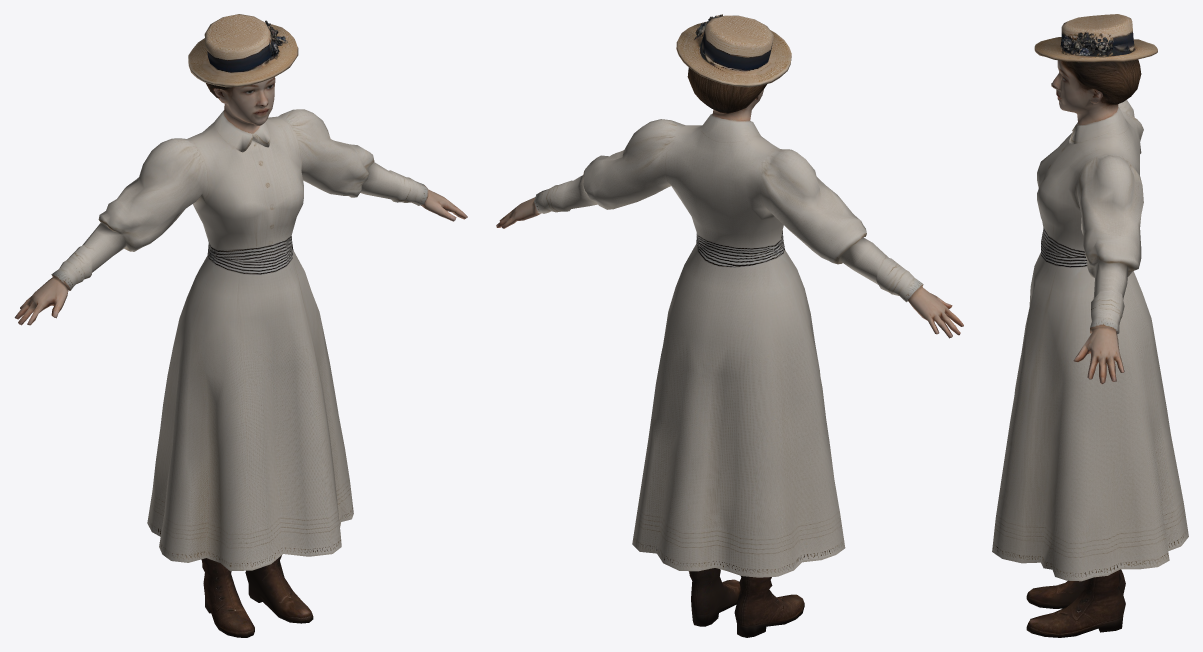
The model's file is woman dress new.fbx.
3 renders of one model, left to right at view 1: azimuth 30°, elevation 25°; view 2: azimuth 150°, elevation 25°; view 3: azimuth 270°, elevation 25°, orthographic. The views are drawn at different scales.
Parts seen in each view (by area): view 1: tripo_node_4fdc094f; view 2: tripo_node_4fdc094f; view 3: tripo_node_4fdc094f.
Part boxes in pixels (x1,y1,x2,y2): tripo_node_4fdc094f: (14,14,467,637); tripo_node_4fdc094f: (496,14,963,637); tripo_node_4fdc094f: (992,14,1188,637).
Size of the model in its own units: 80.27 by 29.88 by 99.8.
Materials: 1 (1 with a texture image).
